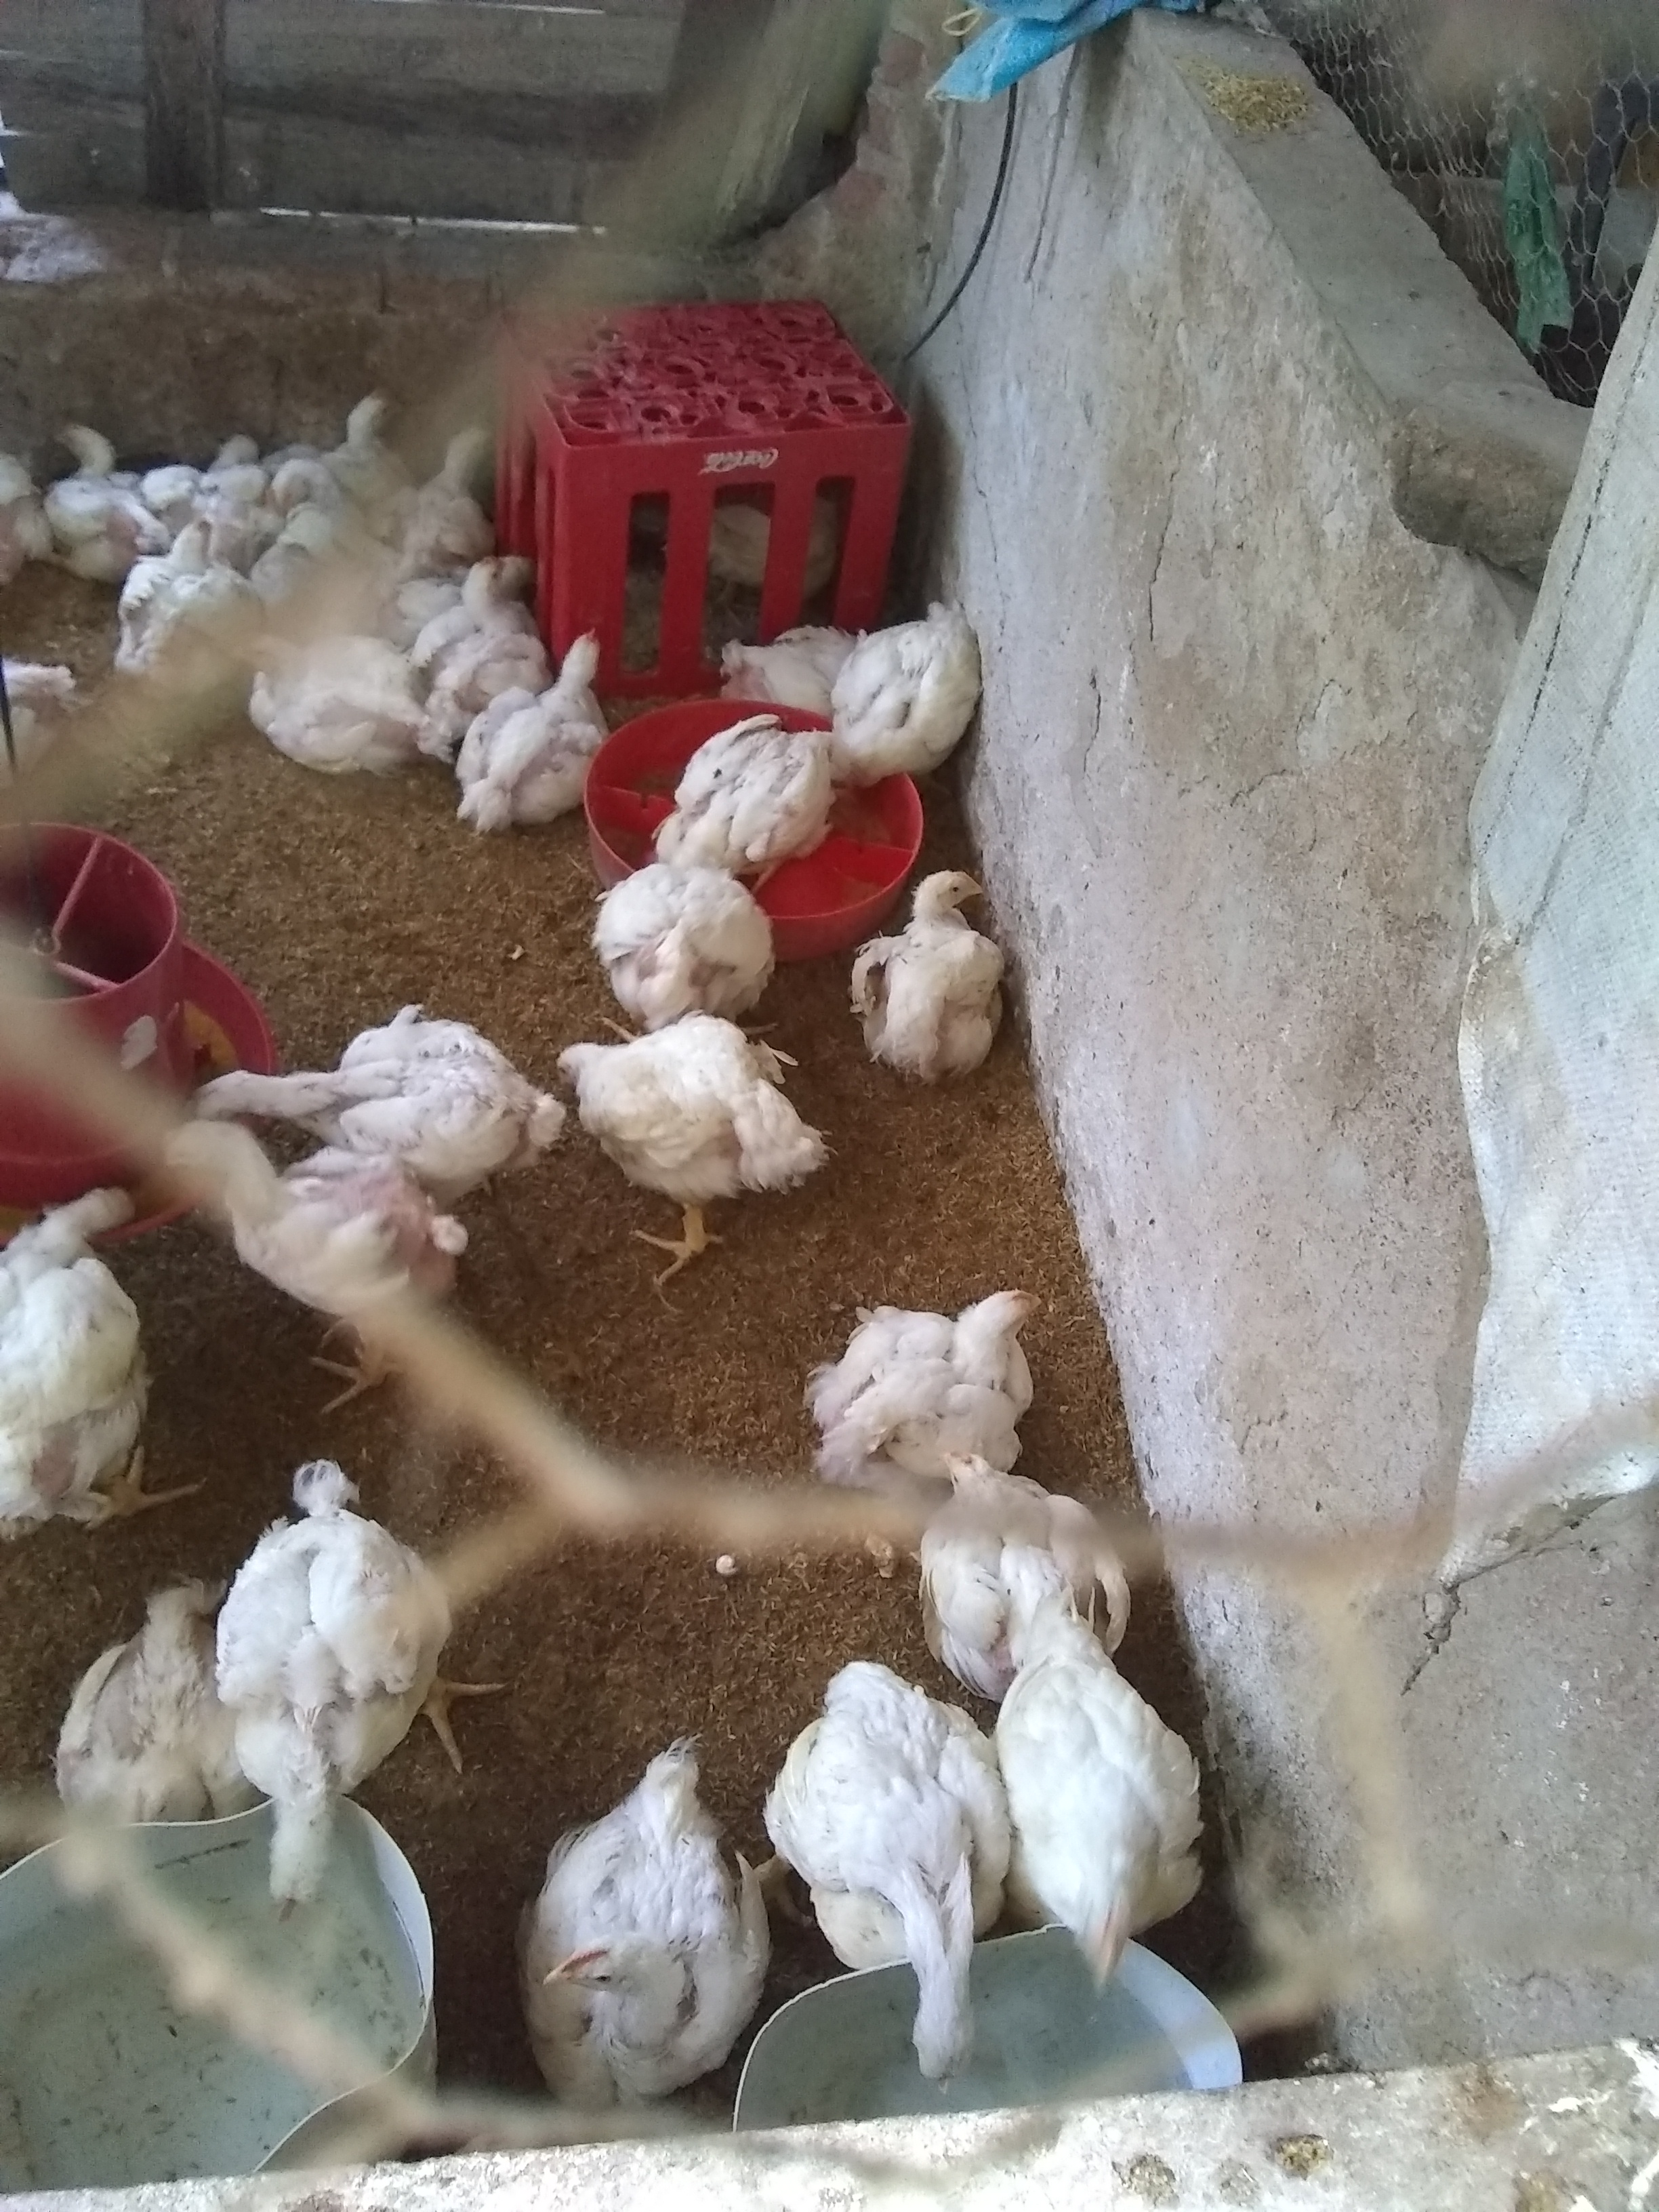Pollos: (739, 1635, 1009, 2095), (214, 1487, 488, 1921), (509, 1743, 772, 2120), (169, 1118, 481, 1402), (1007, 1656, 1241, 1994), (0, 1146, 178, 1555), (568, 1012, 823, 1249), (178, 1012, 540, 1177), (899, 1444, 1136, 1696), (789, 1268, 1040, 1487), (44, 1573, 211, 1862), (833, 876, 1006, 1090), (570, 852, 772, 1021), (653, 707, 850, 878), (474, 636, 615, 826), (836, 618, 988, 791), (240, 636, 406, 777), (113, 519, 239, 678), (694, 489, 885, 587), (708, 594, 845, 712), (0, 650, 89, 792), (52, 418, 136, 561), (0, 451, 73, 604), (425, 409, 519, 496), (260, 455, 347, 540), (333, 355, 404, 455), (192, 425, 260, 500), (465, 550, 511, 636), (491, 547, 554, 594)
